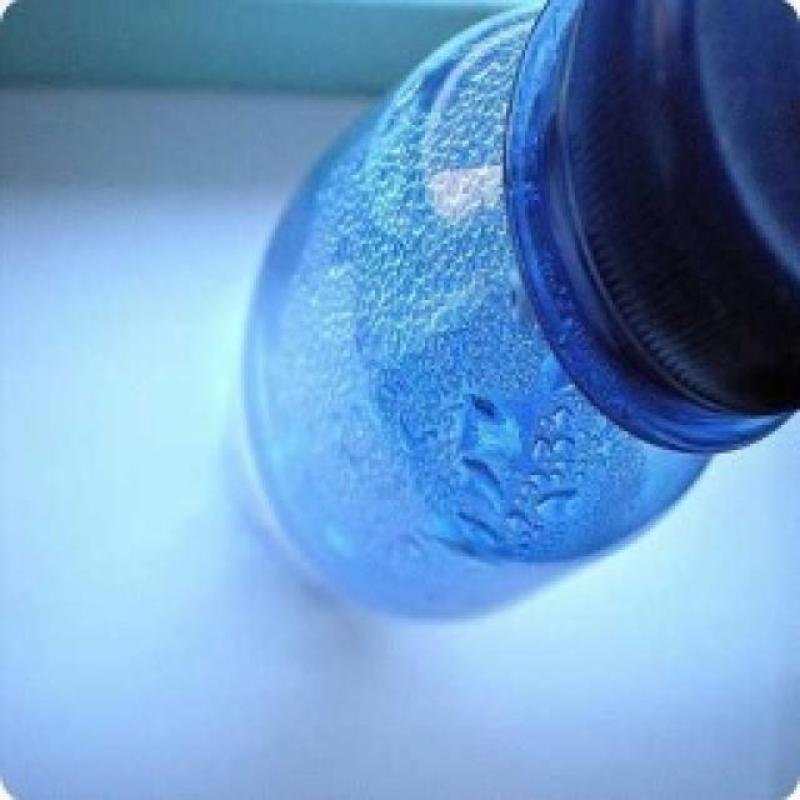botella: (231, 0, 800, 628)
